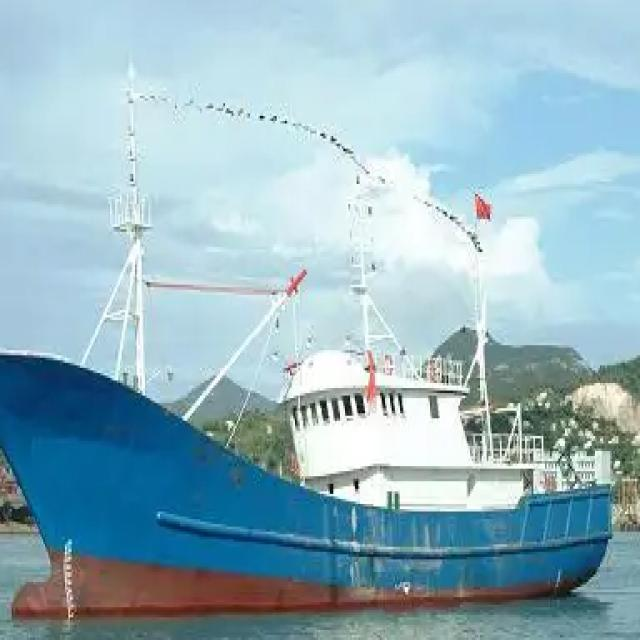fishing boat: (0, 103, 615, 622)
